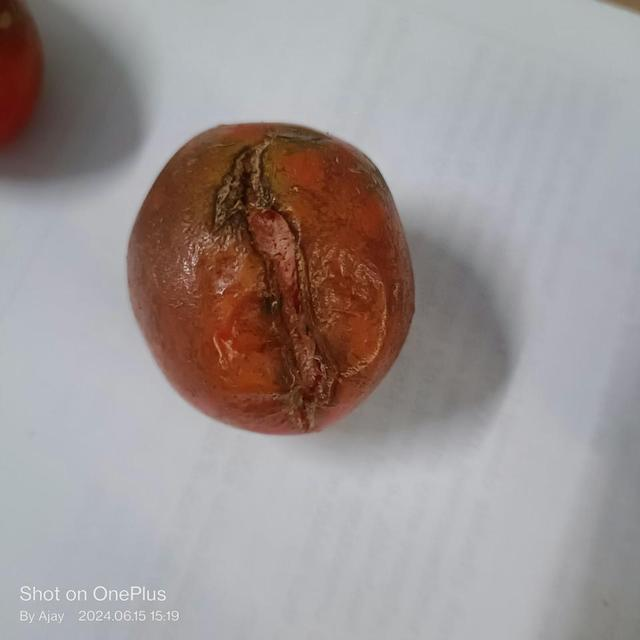Cracking Fruit: (49, 59, 226, 248)
